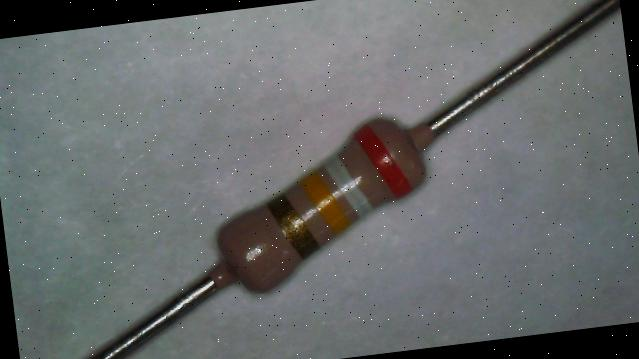gold: (266, 191, 320, 260)
orange: (353, 119, 412, 200)
resistor: (164, 81, 472, 324)
white: (322, 152, 374, 221)
yellow: (300, 167, 350, 236)
